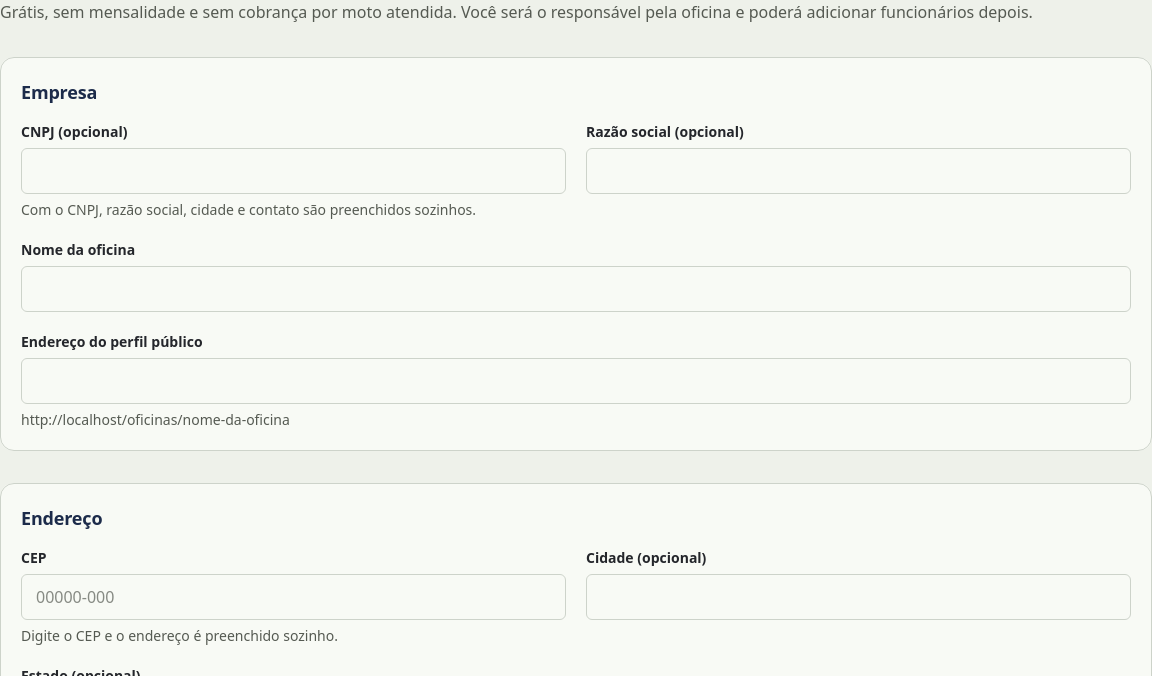
CreateWorkshopPage › endereço já usado aparece no campo certo
The image size is (1152, 676).
Type "Oficina do Zé" into the field labelled "Nome da oficina" at (576, 289), box [21,266,1131,312]
(page scrolled)
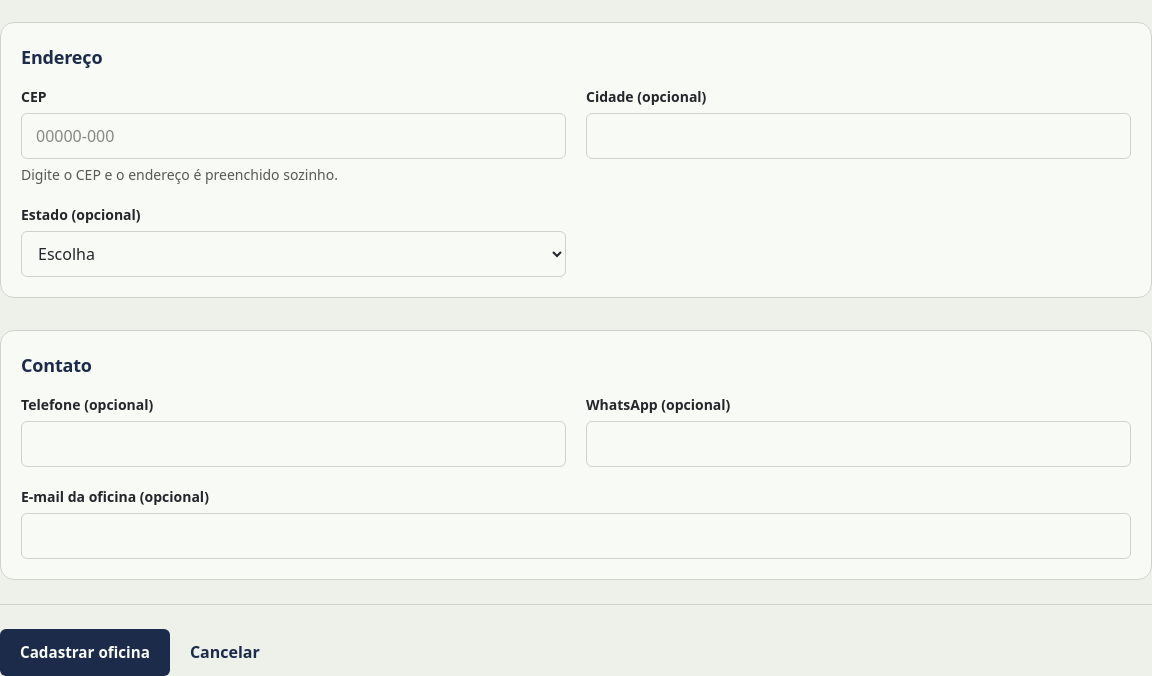
Click the button "Cadastrar oficina" at (85, 653), box [0,629,170,675]
(page scrolled)
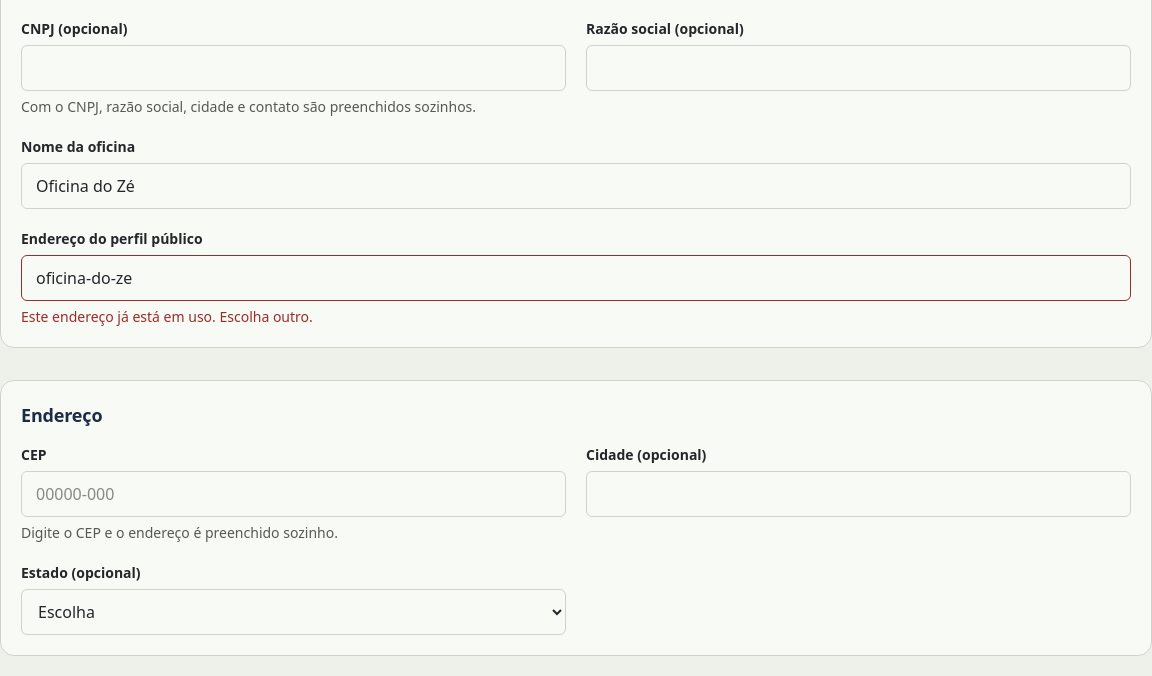
Now the text "Este endereço já está em uso. Escolha outro." is shown, box [21,307,313,326]
